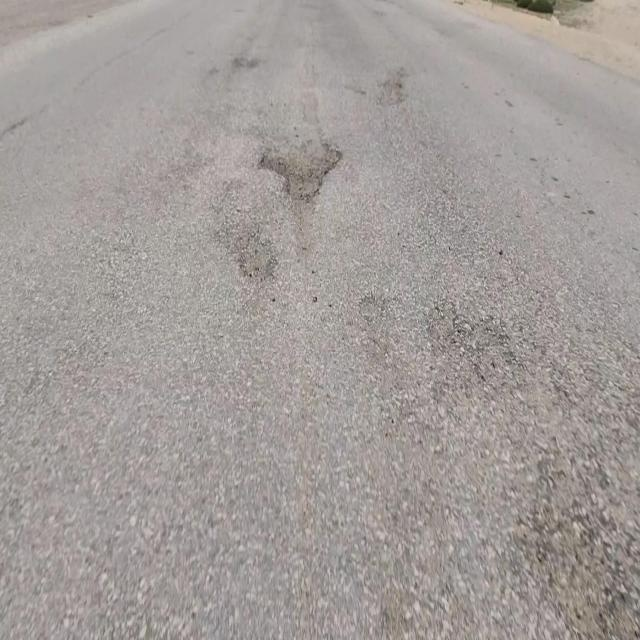pothole: (254, 129, 343, 202), (238, 226, 275, 279)
